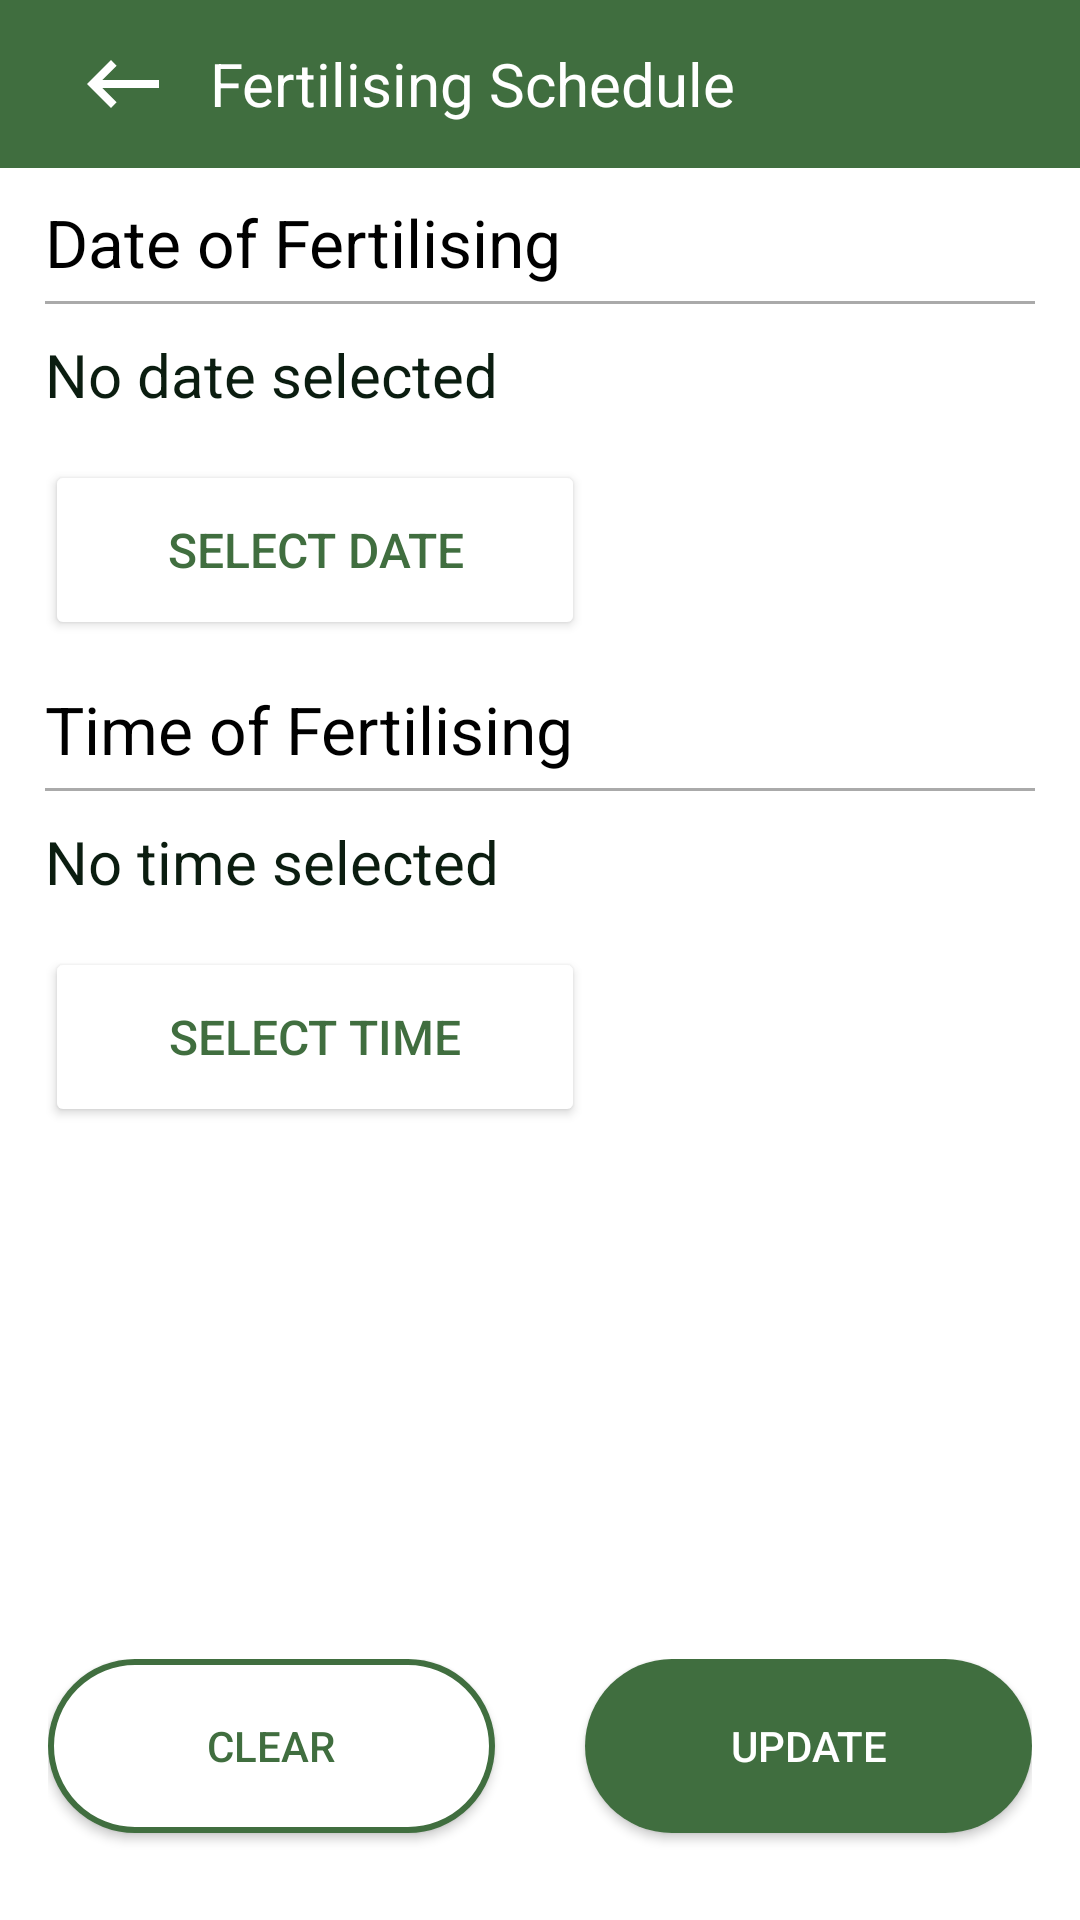

Icon click points for this 1080px x 1920px phone screenshot, format (x,y):
Back button: (123,84)
